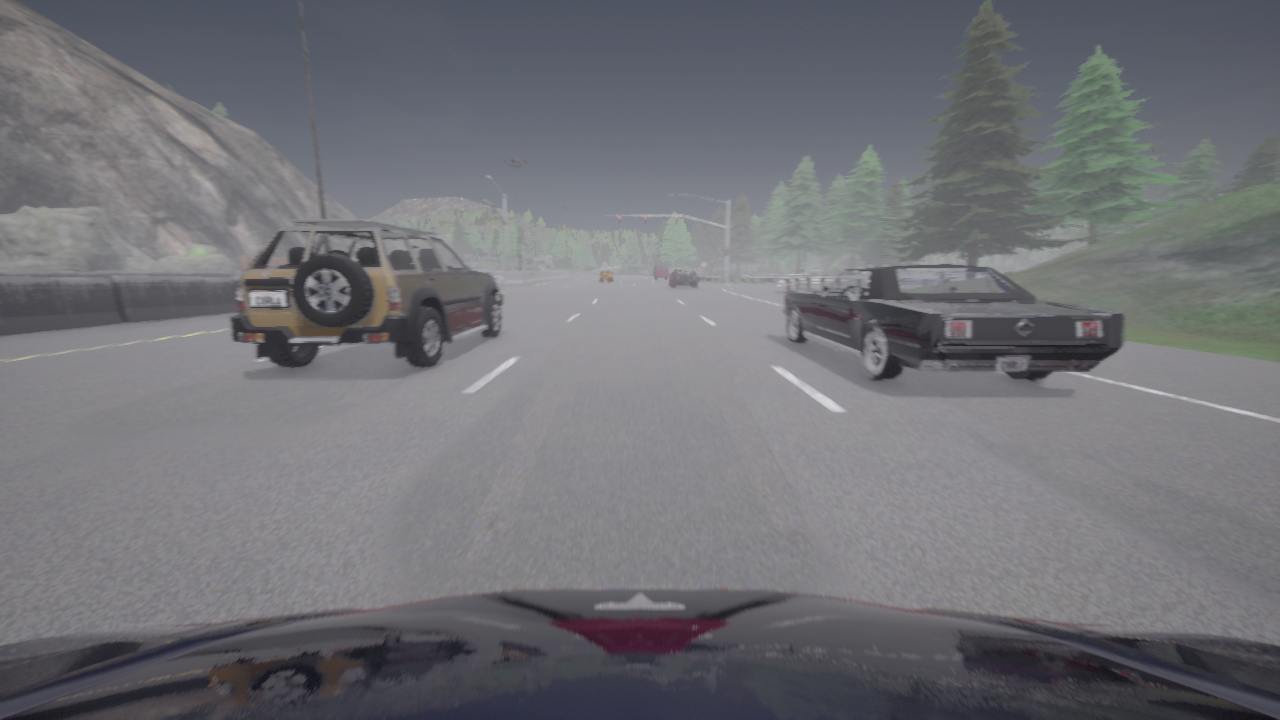cyclist: (0, 588, 1279, 719), (230, 220, 506, 368), (783, 264, 1123, 380), (670, 270, 698, 287), (654, 265, 667, 279)
